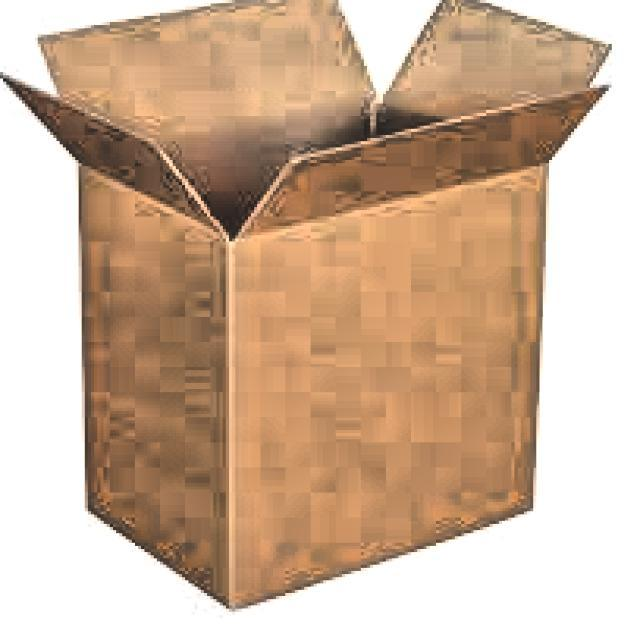cardboard: (0, 0, 615, 609)
